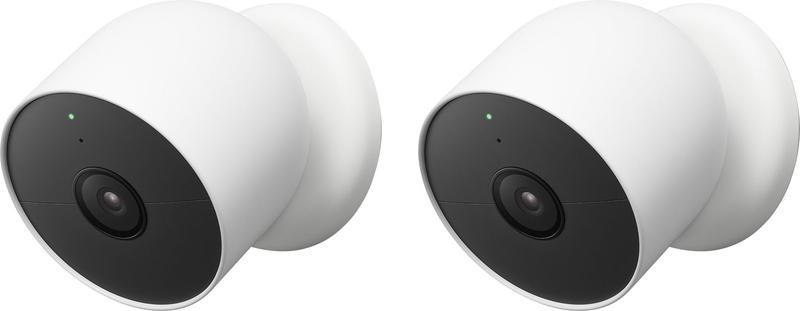nest: (412, 0, 798, 310), (4, 0, 383, 309)
